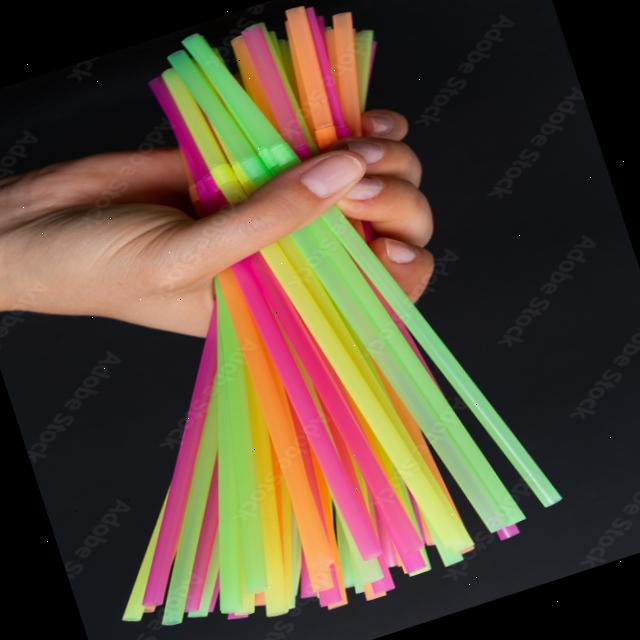plastic: (236, 247, 396, 591)
